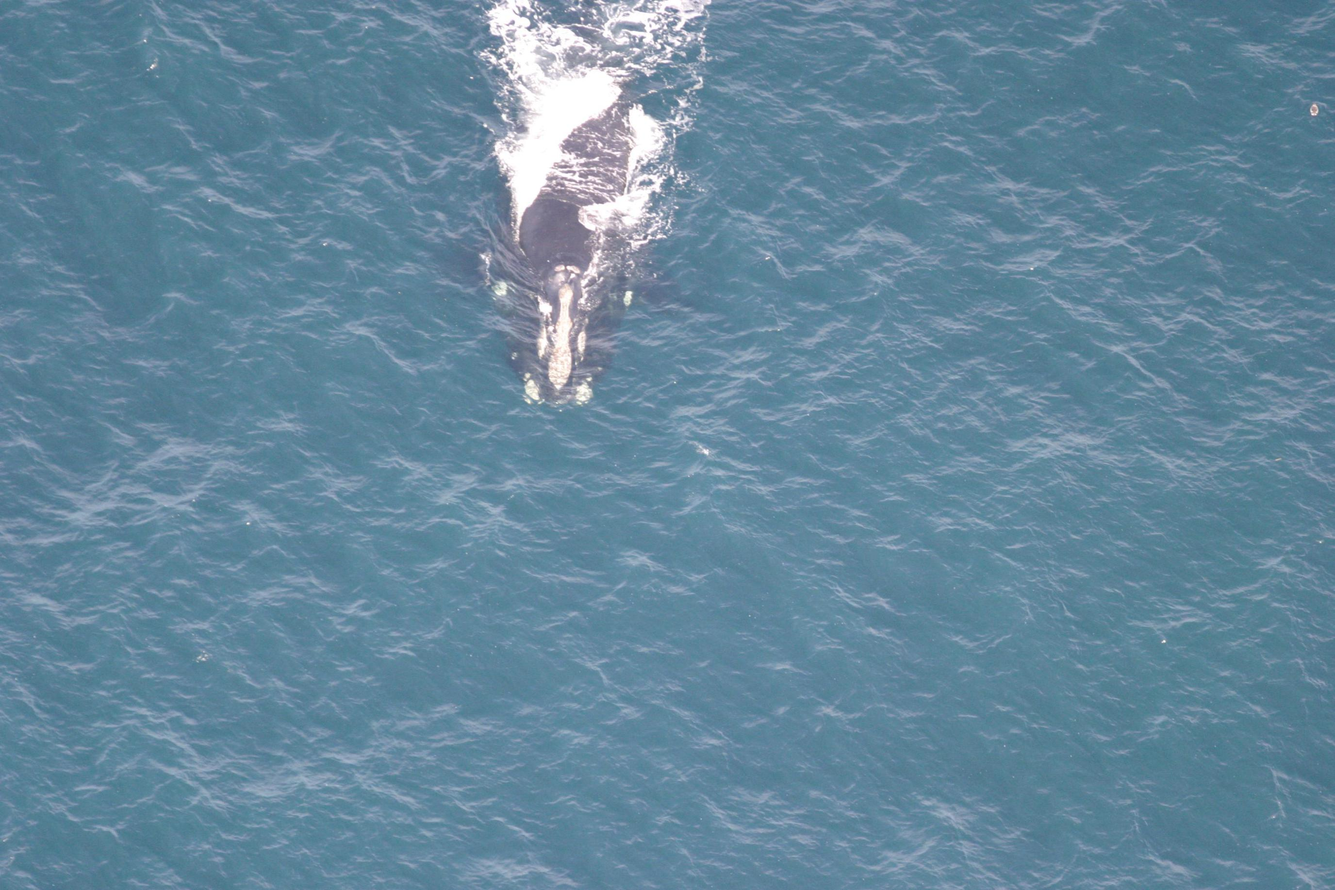whale: (425, 0, 736, 420)
